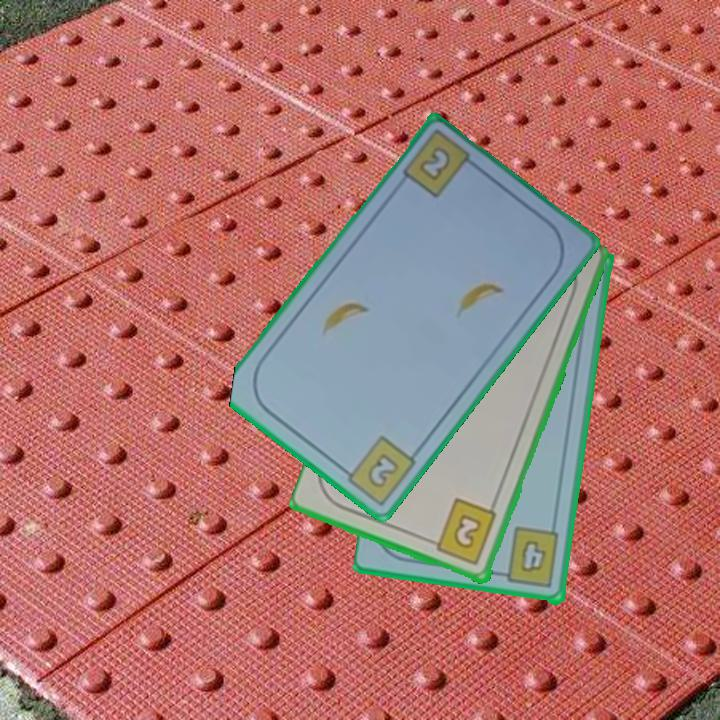2b: (335, 432, 420, 508), (425, 496, 500, 569), (415, 143, 454, 185)
4b: (494, 525, 562, 592)
